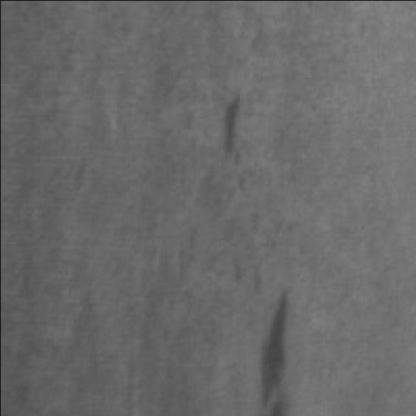inclusion: (258, 289, 304, 416), (212, 90, 254, 170)
